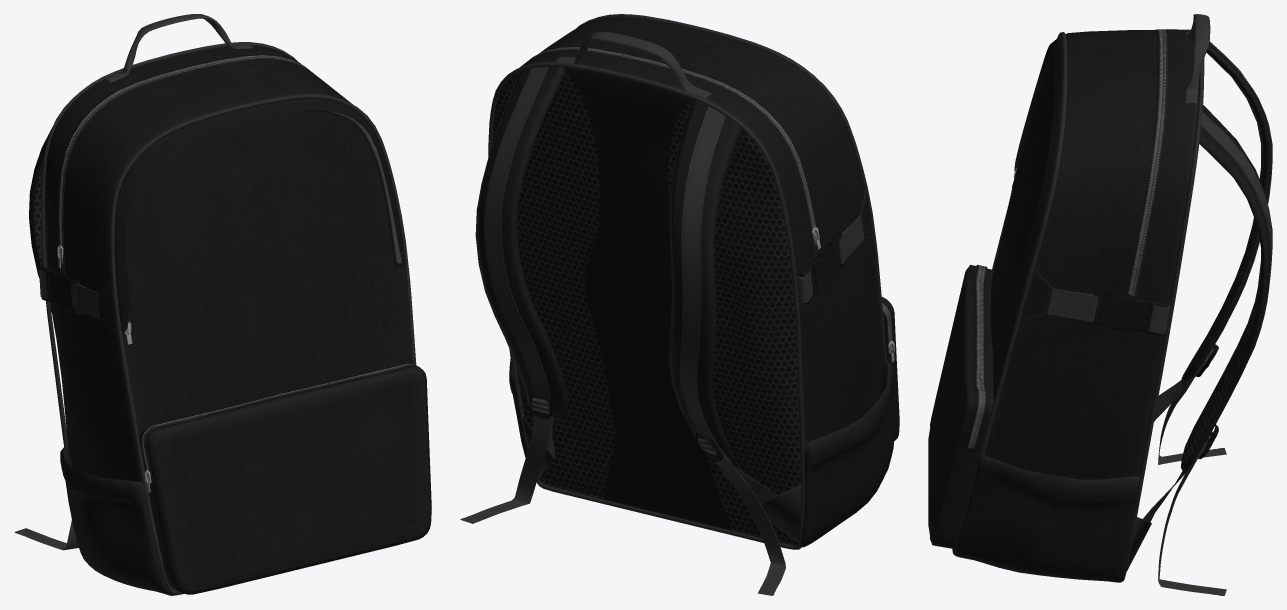
Rendered from backpack.glb.
3 views of the same model, side by side, from view 1: azimuth 30°, elevation 25°; view 2: azimuth 150°, elevation 25°; view 3: azimuth 270°, elevation 25° (orthographic). The views are drawn at different scales.
Parts seen in each view (by area): view 1: backpack; view 2: backpack; view 3: backpack.
Part boxes in pixels (x1=…): backpack: x1=14, y1=14, x2=431, y2=595; backpack: x1=460, y1=14, x2=899, y2=595; backpack: x1=928, y1=14, x2=1272, y2=595.
Bounding box in the file's own units: 0.3288 × 0.4566 × 0.2876.
Materials: 2 (2 with a texture image).
